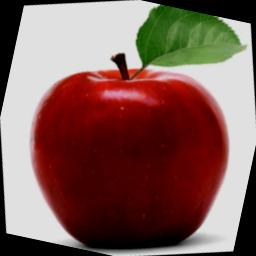Apple Ripe: (2, 7, 256, 256)
